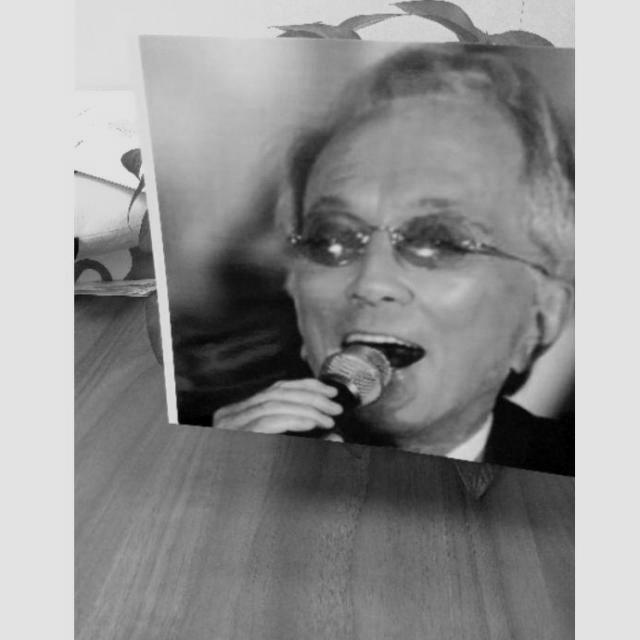fake: (124, 23, 574, 486)
